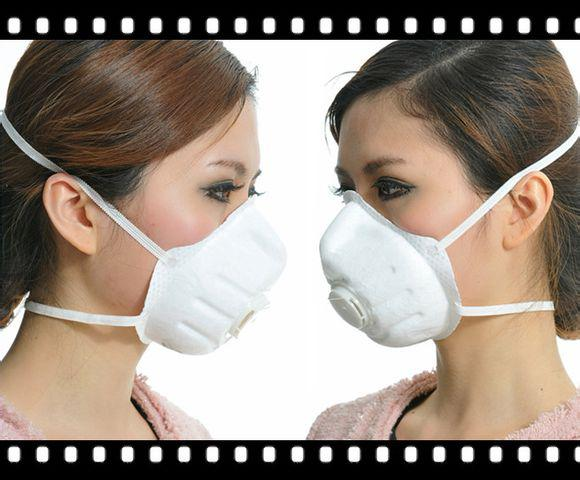OK: (40, 106, 290, 356), (325, 137, 548, 349)
